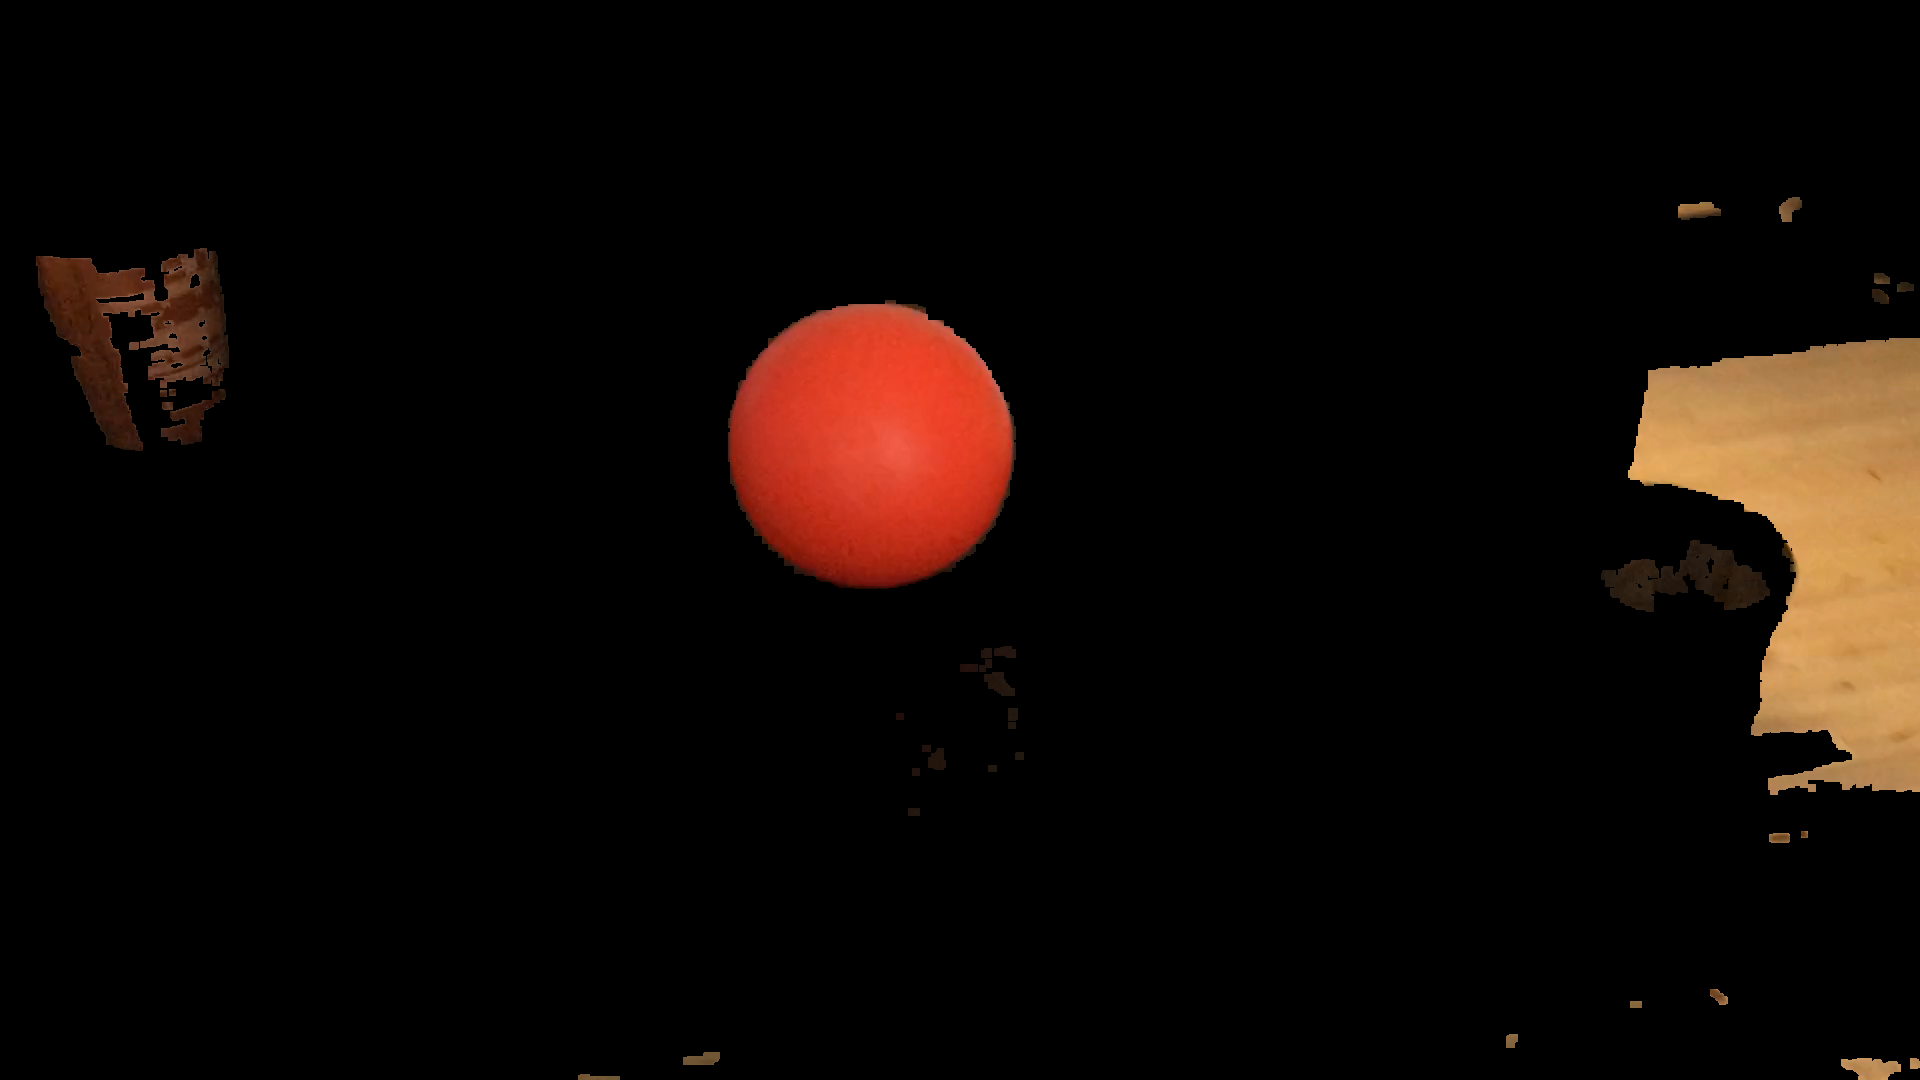Ball: (721, 294, 1021, 585)
